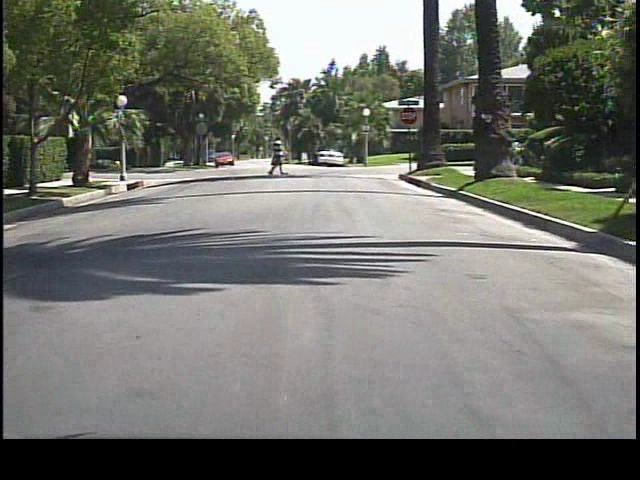person: (269, 136, 287, 175)
